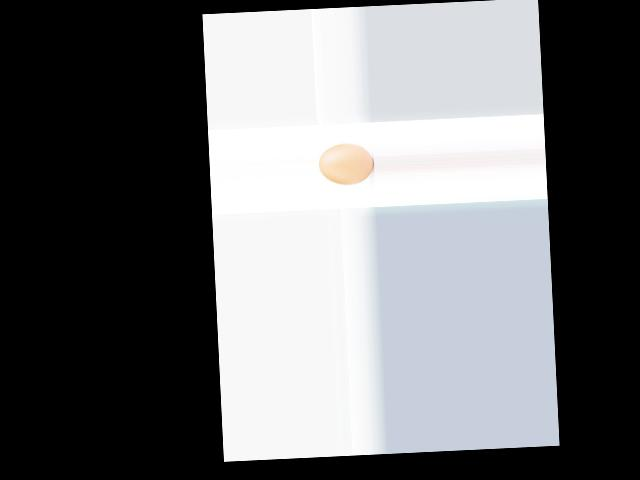egg: (318, 142, 374, 186)
